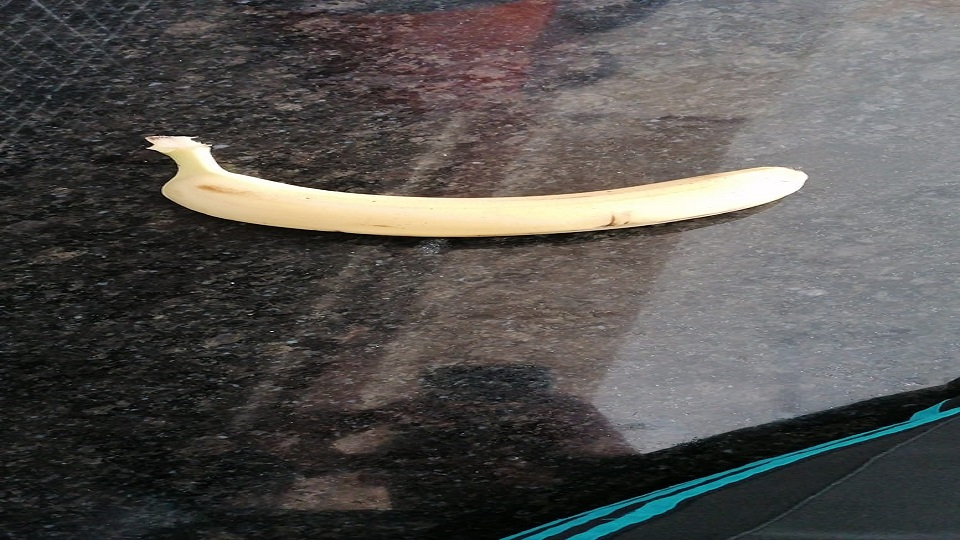muz: (148, 134, 810, 239)
